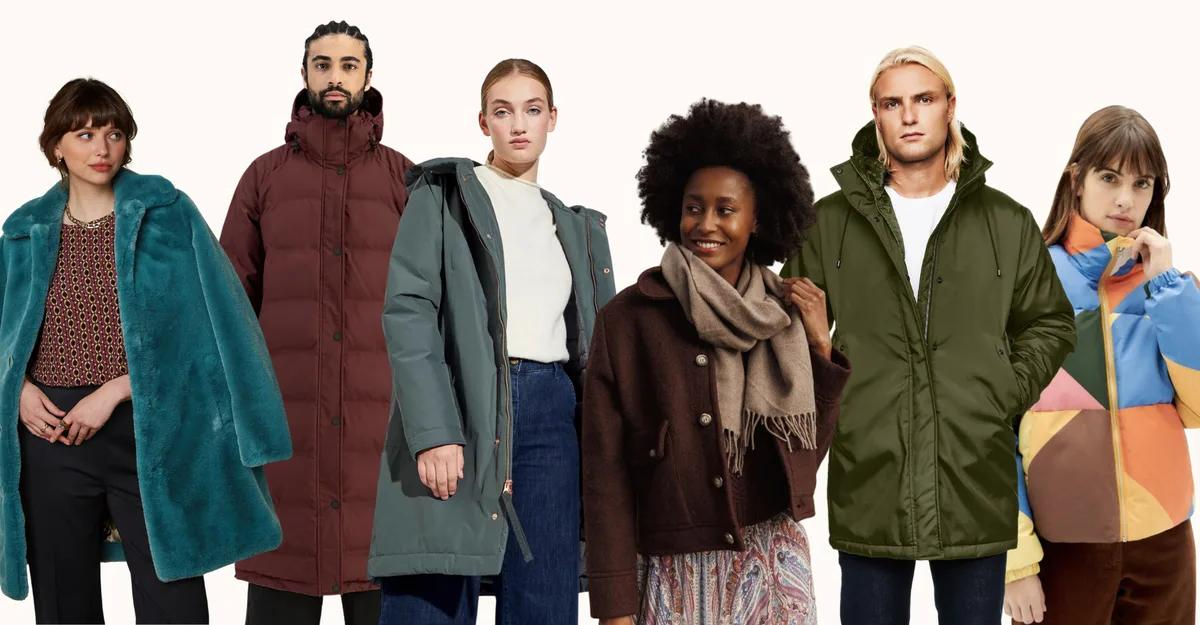coat: (776, 117, 1080, 566), (0, 163, 295, 601), (367, 146, 620, 600), (213, 79, 422, 590), (998, 212, 1200, 584)
jacket: (578, 264, 853, 619)
long sleeve shirt: (27, 211, 136, 392)
skirt: (632, 513, 817, 625)
sweater: (467, 165, 577, 363)
trousers: (378, 350, 582, 625), (18, 376, 212, 625), (1010, 518, 1198, 625), (839, 546, 1009, 625)
